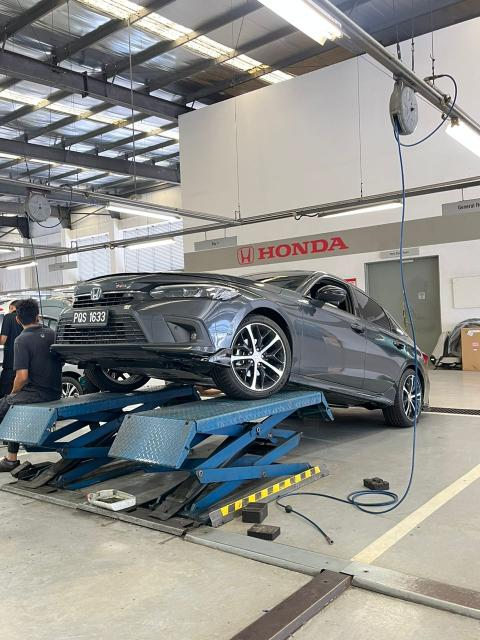License_Plate: (71, 310, 111, 328)
car: (48, 233, 431, 423)
